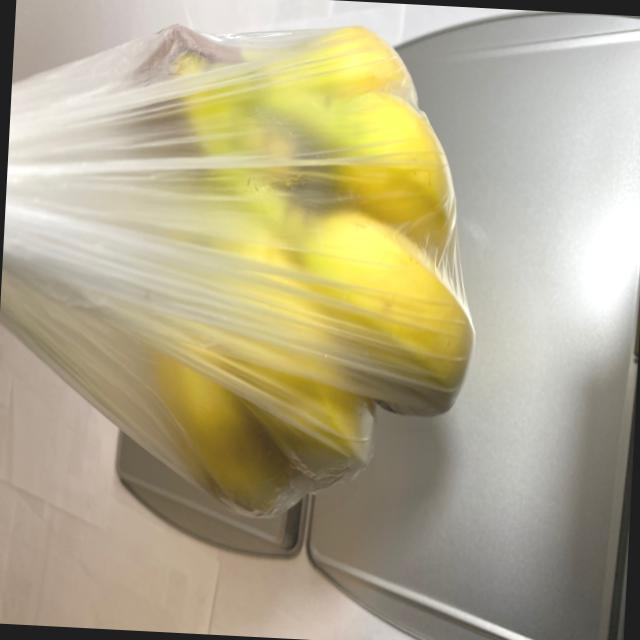banana: (80, 12, 490, 546)
